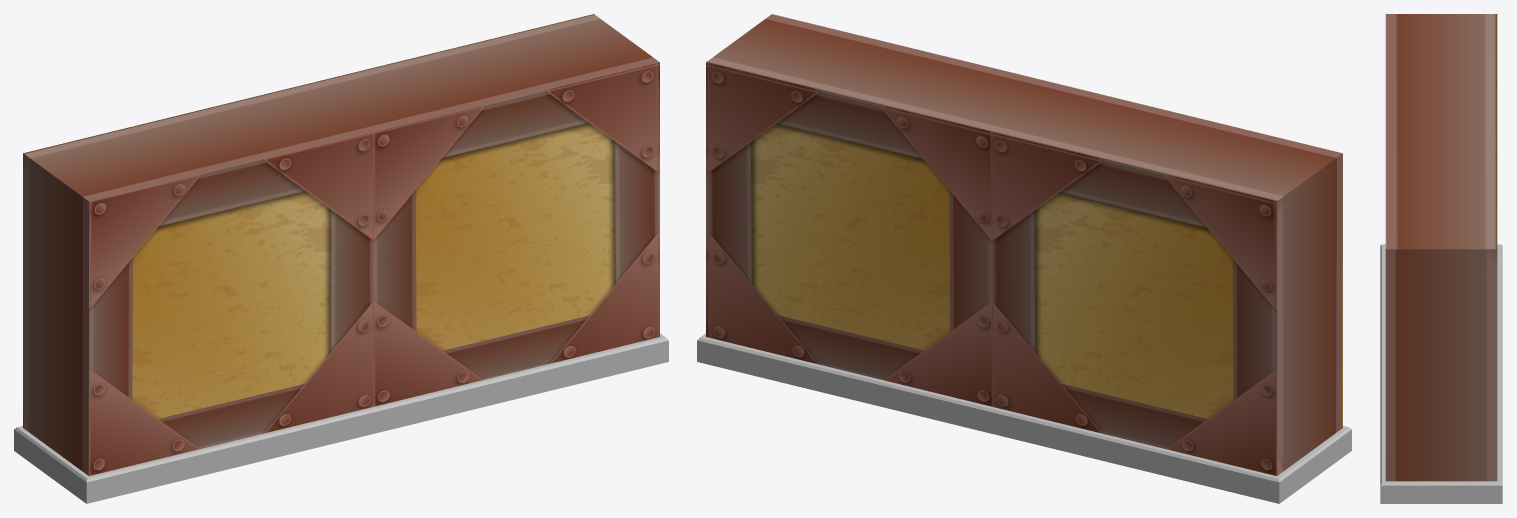
Rendered from ShortWall.fbx.
3 views of the same model, side by side, from view 1: azimuth 30°, elevation 25°; view 2: azimuth 150°, elevation 25°; view 3: azimuth 270°, elevation 25° (orthographic). The views are drawn at different scales.
Visible parts, largest first — view 1: WallStraightShort; view 2: WallStraightShort; view 3: WallStraightShort.
Boxes of the visible parts, x1,y1,x2,y2 form: WallStraightShort: [14, 14, 668, 503]; WallStraightShort: [697, 14, 1351, 503]; WallStraightShort: [1380, 14, 1502, 503].
Size of the model in its own units: 510 by 250 by 110.
